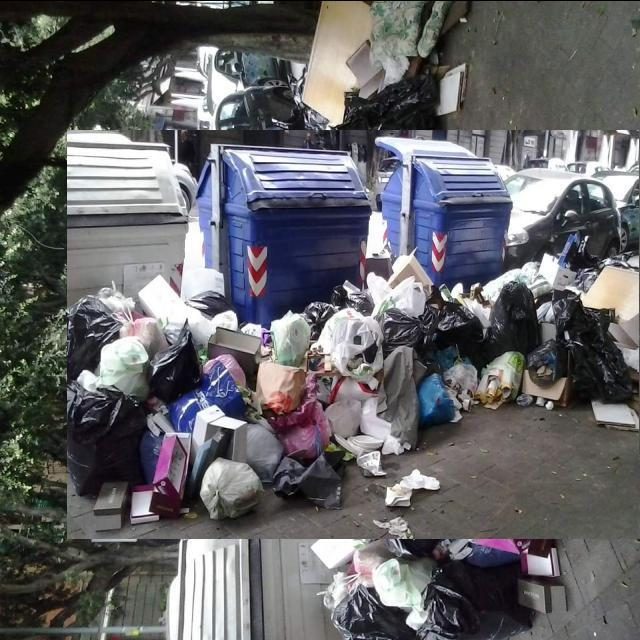Trashbag: (550, 282, 640, 408), (60, 380, 146, 491), (59, 297, 119, 379), (482, 280, 541, 363), (379, 304, 439, 362), (151, 334, 203, 400), (328, 605, 424, 640), (427, 292, 485, 346), (333, 284, 374, 318), (302, 301, 336, 332)
